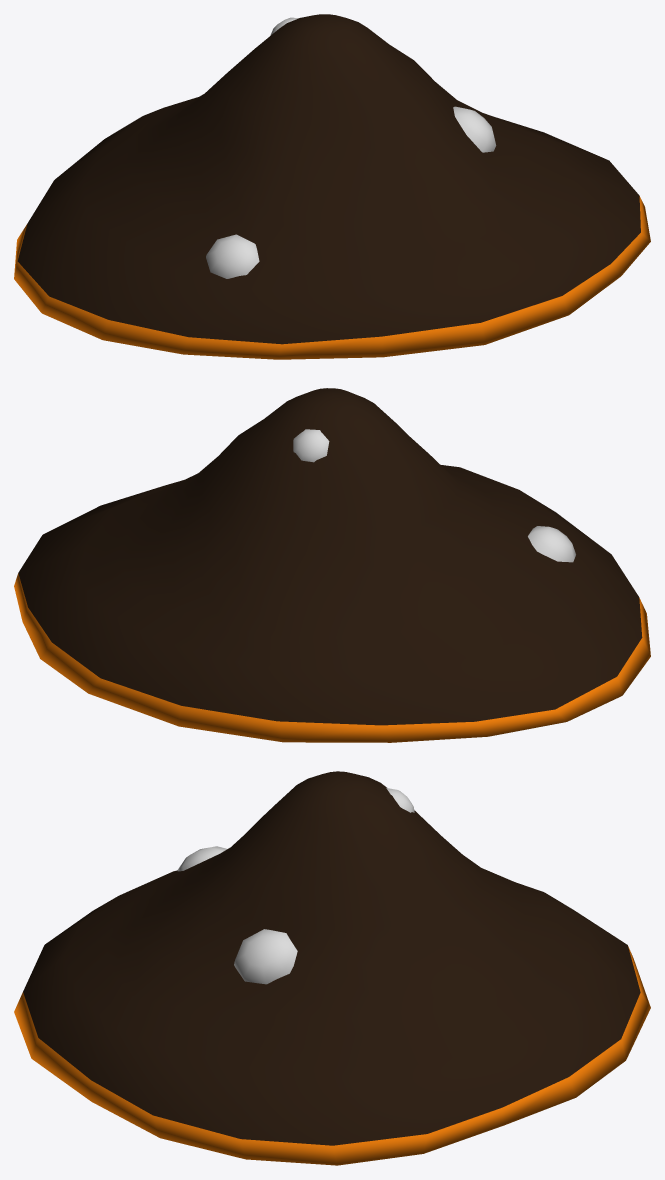
File: projectile_rangedShroomHat_01.fbx
3 views of the same model, one above another, from view 1: azimuth 30°, elevation 25°; view 2: azimuth 150°, elevation 25°; view 3: azimuth 270°, elevation 25° (orthographic). The views are drawn at different scales.
Parts seen in each view (by area): view 1: npc_shromMedium_hat; view 2: npc_shromMedium_hat; view 3: npc_shromMedium_hat.
Boxes of the visible parts, box(x1,y1,x2,y2) form: npc_shromMedium_hat: box(14, 14, 650, 359); npc_shromMedium_hat: box(14, 388, 650, 742); npc_shromMedium_hat: box(14, 771, 650, 1165).
Size of the model in its own units: 3.31 by 3.01 by 1.24.
